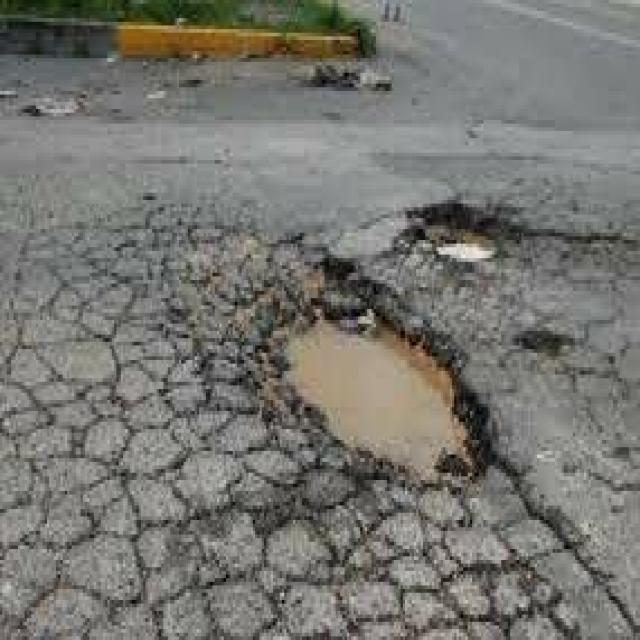Pothole: (179, 156, 573, 560)
